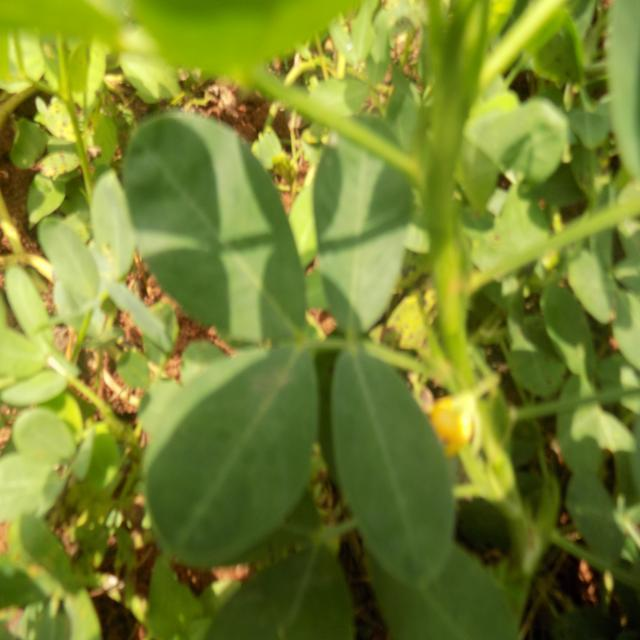Ground nut_healthy: (122, 98, 310, 348), (146, 351, 316, 574), (333, 349, 456, 586), (313, 115, 408, 340)
